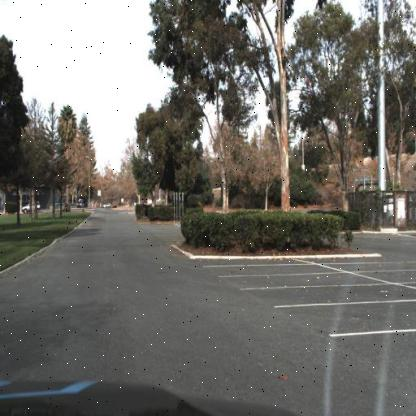car: (20, 196, 42, 216)
